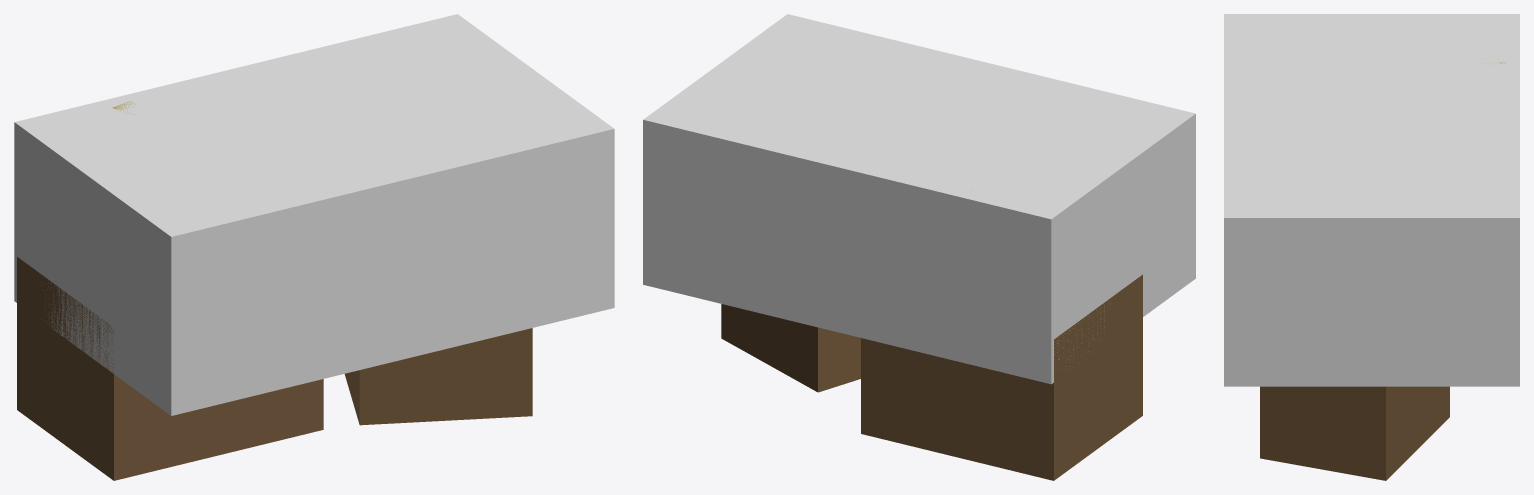
File: Deco_Boxes.001.gltf
The picture shows the model from 3 angles, left to right: view 1: azimuth 30°, elevation 25°; view 2: azimuth 150°, elevation 25°; view 3: azimuth 270°, elevation 25°; orthographic projection. The views are drawn at different scales.
Visible parts, largest first — view 1: Deco_Boxes.001_COL, Deco_Boxes.001; view 2: Deco_Boxes.001_COL, Deco_Boxes.001; view 3: Deco_Boxes.001_COL, Deco_Boxes.001.
Boxes of the visible parts, x1=… form: Deco_Boxes.001_COL: x1=14, y1=14, x2=614, y2=415; Deco_Boxes.001: x1=17, y1=101, x2=532, y2=480; Deco_Boxes.001_COL: x1=643, y1=14, x2=1195, y2=384; Deco_Boxes.001: x1=721, y1=176, x2=1142, y2=480; Deco_Boxes.001_COL: x1=1224, y1=14, x2=1519, y2=386; Deco_Boxes.001: x1=1260, y1=62, x2=1505, y2=480.
Bounding box in the file's own units: 1.06 × 0.652 × 0.6482.
